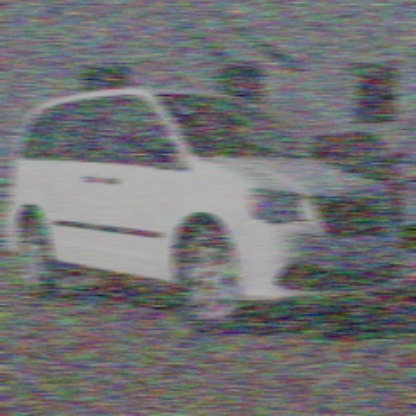Vehicle: (4, 86, 406, 330)
